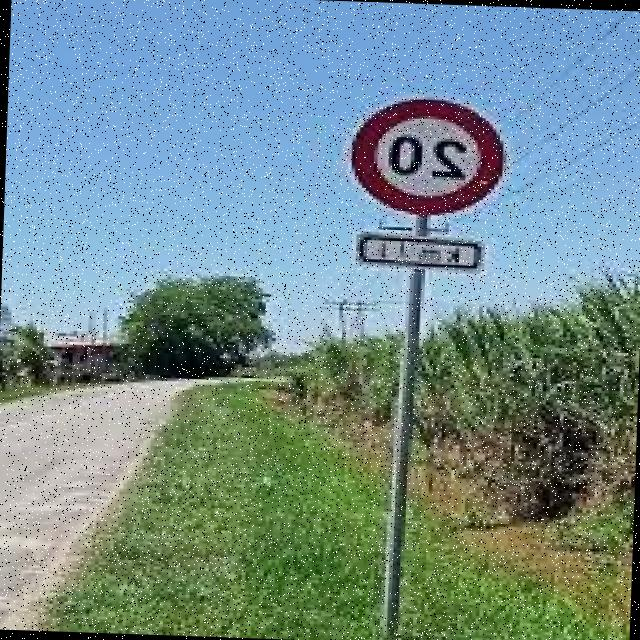speed_limit_20: (328, 84, 514, 218)
